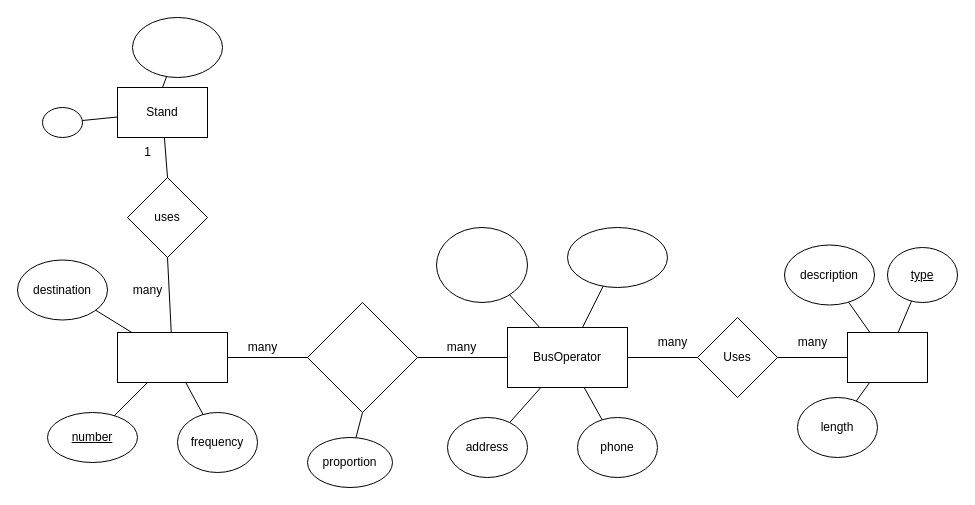
This 975x505 diagram has some shape labels left out. Each missing label, with the centre of its shape:
Bus: point 887,357
BusRoute: point 172,357
email: point 617,257
ID: point 62,122
maxLength: point 177,47
name: point 482,264
OperatesRoute: point 362,357
